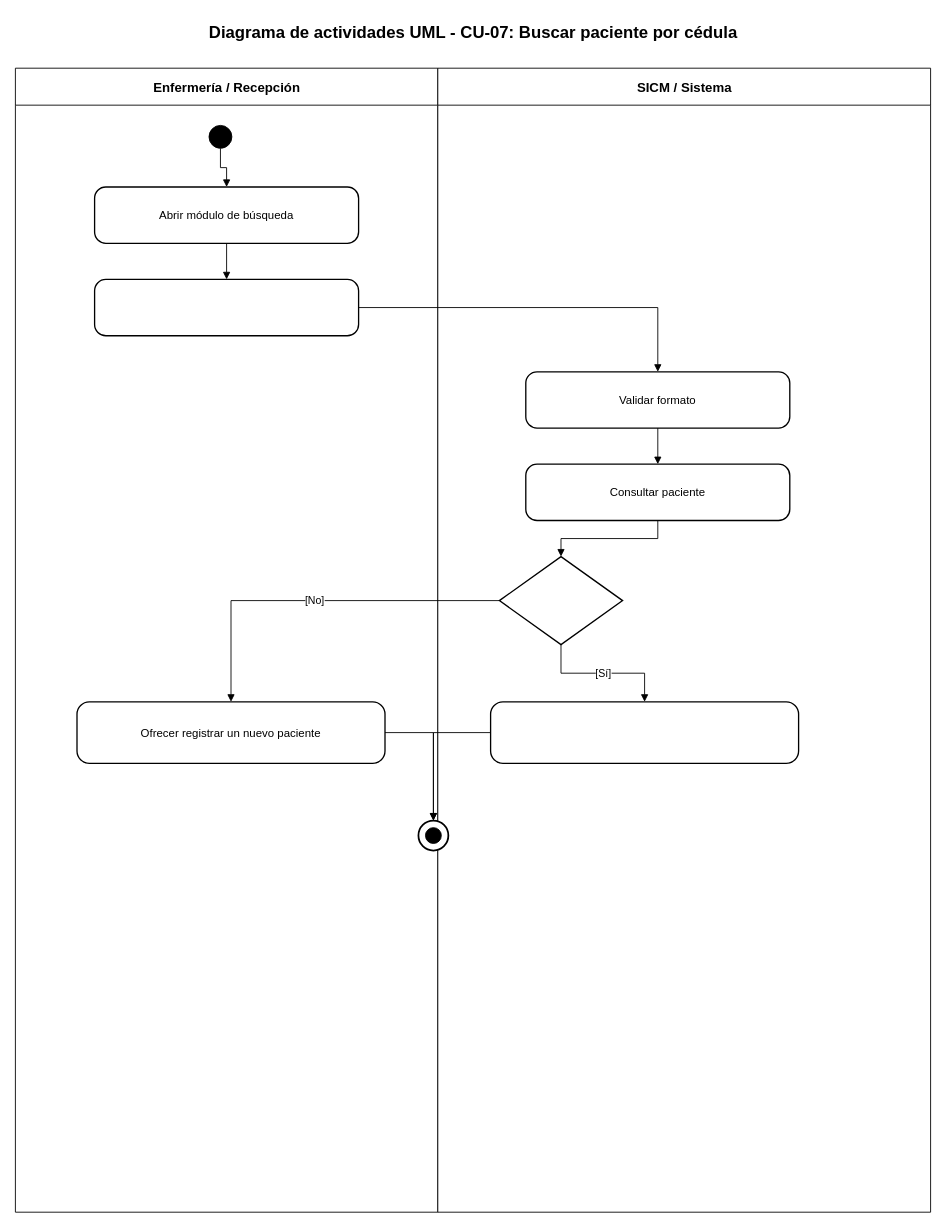
This 946x1228 diagram has some shape labels left out. Here are the shapes that lost their labels. From the top down, the centre of each, then its label:
the point at 226,307: Ingresar número de cédula
the point at 560,600: ¿Existe coincidencia?
the point at 644,732: Mostrar expediente precargado
